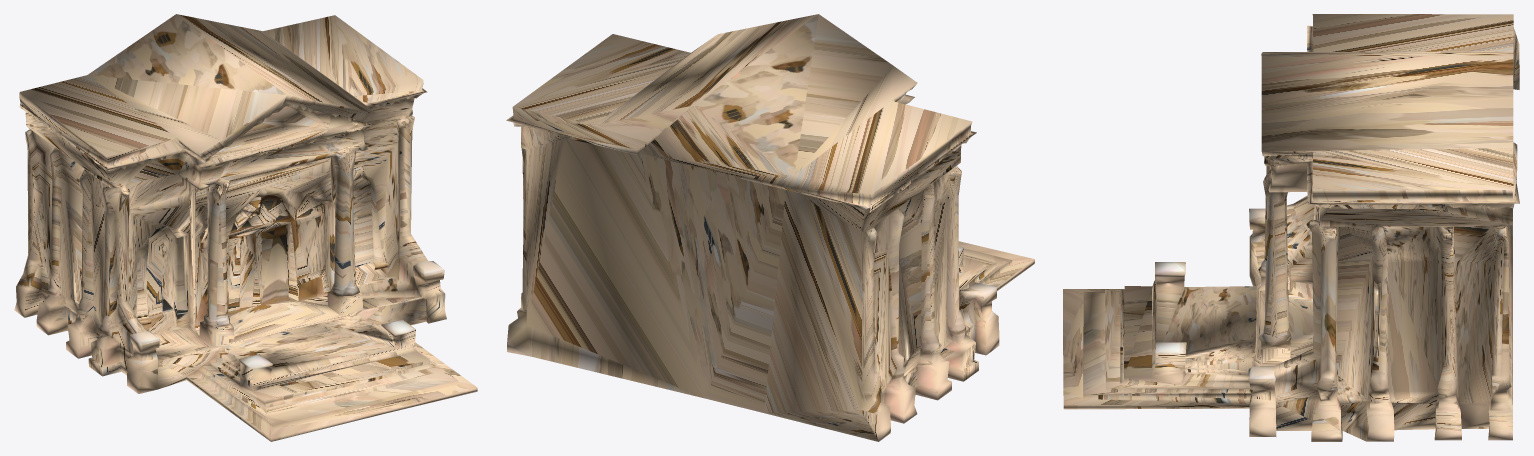
Rendered from museum_building.glb.
3 views of the same model, side by side, from view 1: azimuth 30°, elevation 25°; view 2: azimuth 150°, elevation 25°; view 3: azimuth 270°, elevation 25° (orthographic). The views are drawn at different scales.
Parts seen in each view (by area): view 1: museum_building; view 2: museum_building; view 3: museum_building.
Part boxes in pixels (box(x1,y1,x2,y2)): museum_building: box(14, 14, 477, 441); museum_building: box(506, 14, 1034, 441); museum_building: box(1063, 14, 1519, 441).
Bounding box in the file's own units: 1.88 × 1.42 × 1.99.
1 material, 1 textured.
